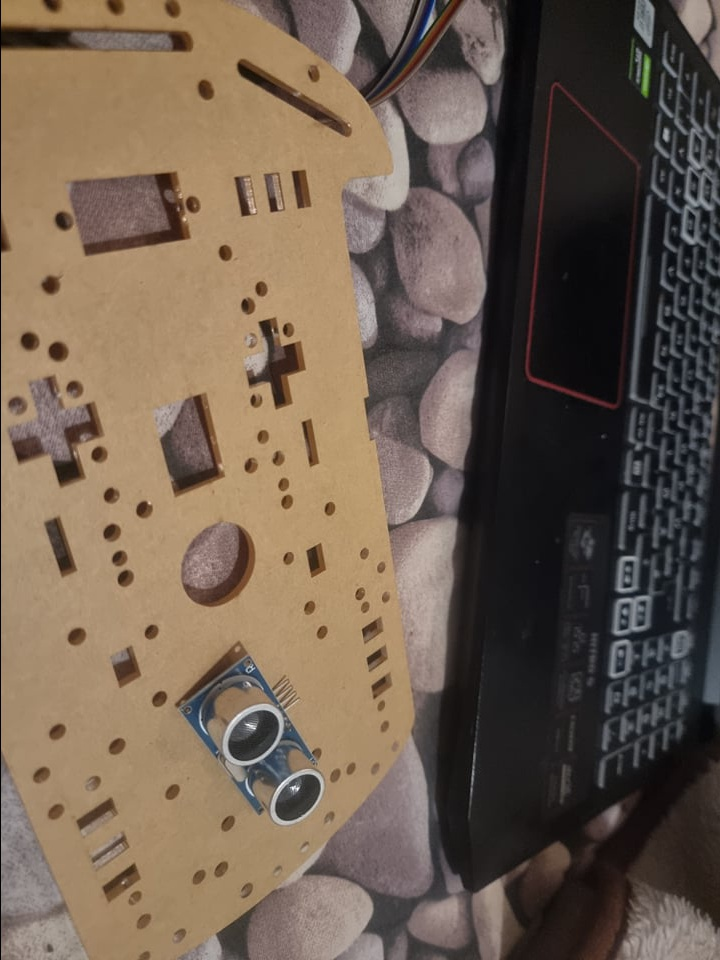SENSOR: (175, 653, 324, 821)
